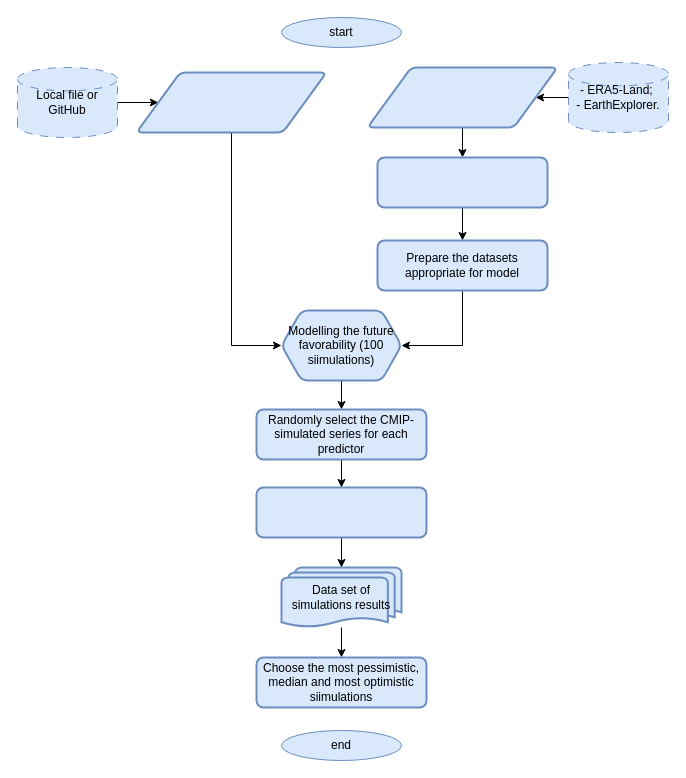
Image size: 686x778. Some labels were removed from this diagram. The shapes that lost their labels are listed below. From the top down, each one's box as (x1, y1, x2, y2) in pixels, then its label:
(135, 71, 327, 133): Previously trained best model of the favorability the territory f or fir
(366, 66, 558, 128): Future climate data; Relief data.
(376, 156, 548, 208): Convert the units
(255, 486, 427, 538): Simulate the favorability
